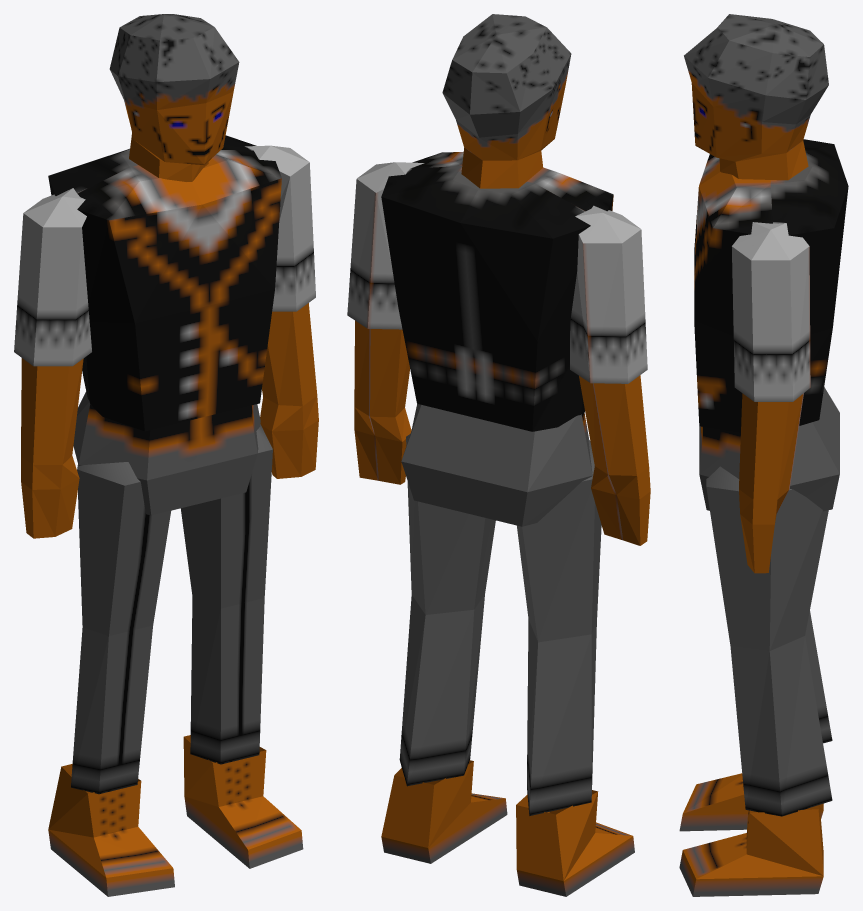
File: Man3d_v5.fbx
The picture shows the model from 3 angles, left to right: view 1: azimuth 30°, elevation 25°; view 2: azimuth 150°, elevation 25°; view 3: azimuth 270°, elevation 25°; orthographic projection.
Parts seen in each view (by area): view 1: man; view 2: man; view 3: man.
Part boxes in pixels (x1,y1,x2,y2): man: (14, 14, 318, 896); man: (347, 14, 650, 896); man: (679, 14, 848, 896).
Size of the model in its own units: 28.6 by 78.99 by 14.67.
Materials: 1 (1 with a texture image).
